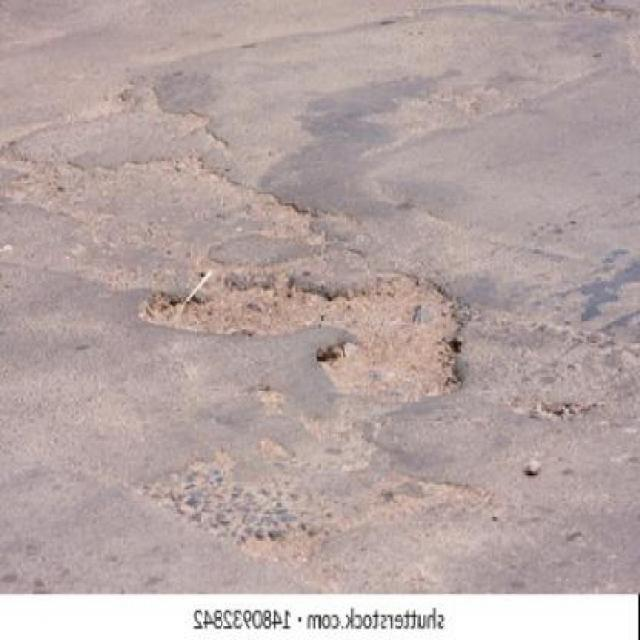Pothole: (135, 269, 470, 405)
